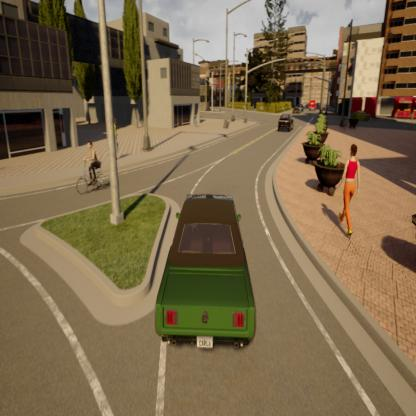Cars: (156, 194, 258, 350), (75, 140, 111, 194), (278, 112, 295, 135)
Pedestrian: (340, 140, 362, 240), (111, 118, 120, 160), (192, 112, 199, 127)
